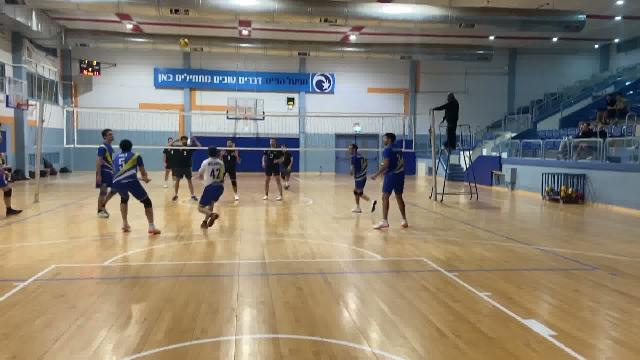ball: (179, 38, 190, 50)
